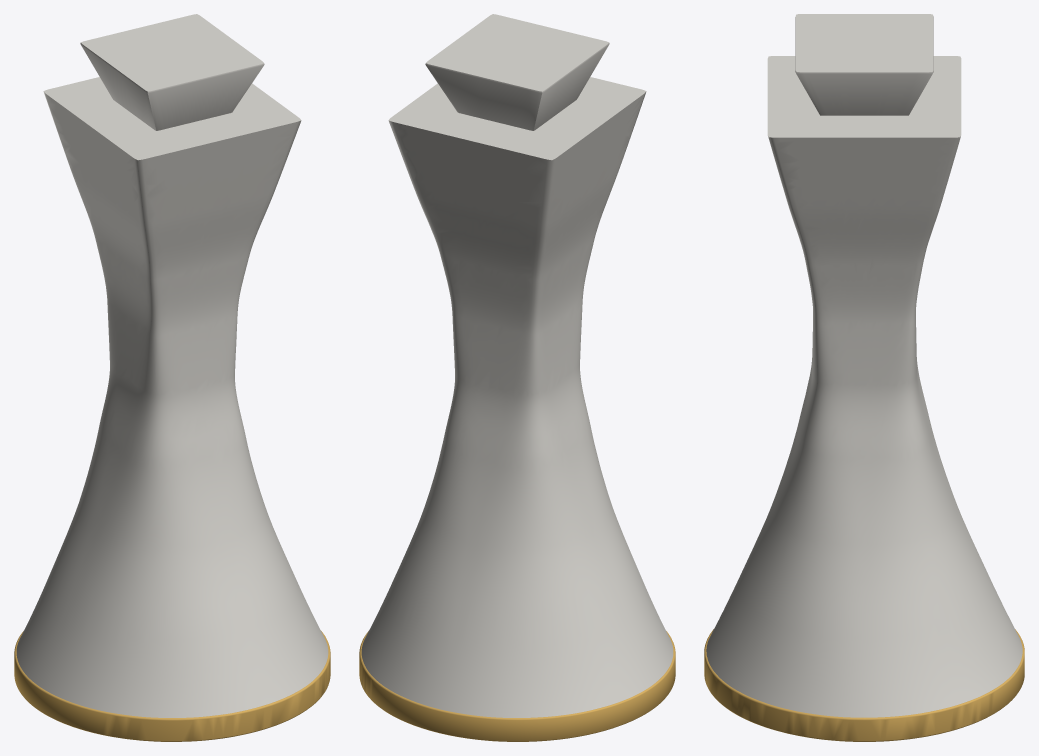
The model's file is king-white-hd.glb.
The picture shows the model from 3 angles, left to right: view 1: azimuth 30°, elevation 25°; view 2: azimuth 150°, elevation 25°; view 3: azimuth 270°, elevation 25°; orthographic projection.
Parts seen in each view (by area): view 1: 06_kral_telo_0, 06_kral_telo_1, 06_kral_podstavec; view 2: 06_kral_telo_0, 06_kral_telo_1, 06_kral_podstavec; view 3: 06_kral_telo_0, 06_kral_telo_1, 06_kral_podstavec.
Boxes of the visible parts, x1,y1,x2,y2 form: 06_kral_telo_0: [16, 77, 328, 717]; 06_kral_telo_1: [80, 14, 264, 130]; 06_kral_podstavec: [14, 631, 330, 741]; 06_kral_telo_0: [361, 77, 673, 717]; 06_kral_telo_1: [425, 14, 609, 130]; 06_kral_podstavec: [359, 631, 675, 741]; 06_kral_telo_0: [706, 56, 1022, 717]; 06_kral_telo_1: [795, 14, 933, 115]; 06_kral_podstavec: [704, 629, 1024, 741].
Bounding box in the file's own units: 0.7588 × 1.65 × 0.7588.
